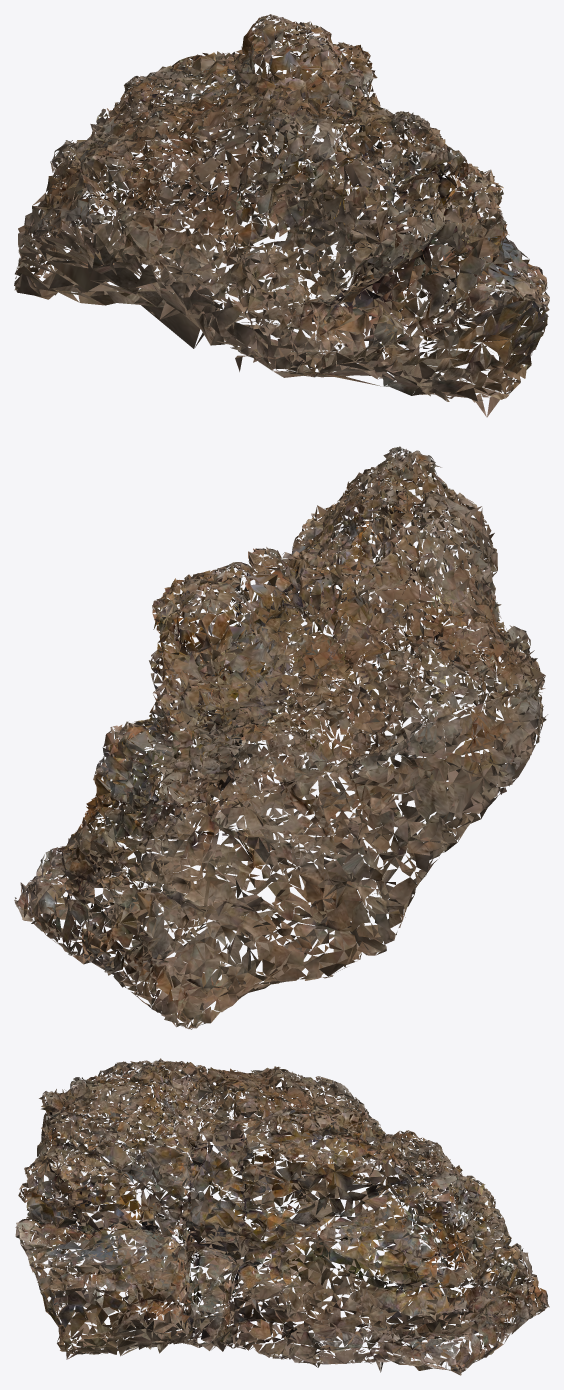
The model's file is boulder_01.opt.glb.
3 views of the same model, one above another, from view 1: azimuth 30°, elevation 25°; view 2: azimuth 150°, elevation 25°; view 3: azimuth 270°, elevation 25° (orthographic). The views are drawn at different scales.
Parts seen in each view (by area): view 1: boulder_01; view 2: boulder_01; view 3: boulder_01.
Boxes of the visible parts, x1,y1,x2,y2 form: boulder_01: (14,14,549,417); boulder_01: (14,446,547,1029); boulder_01: (15,1058,549,1375).
Size of the model in its own units: 1.28 by 1.01 by 1.84.
Materials: 1 (1 with a texture image).
